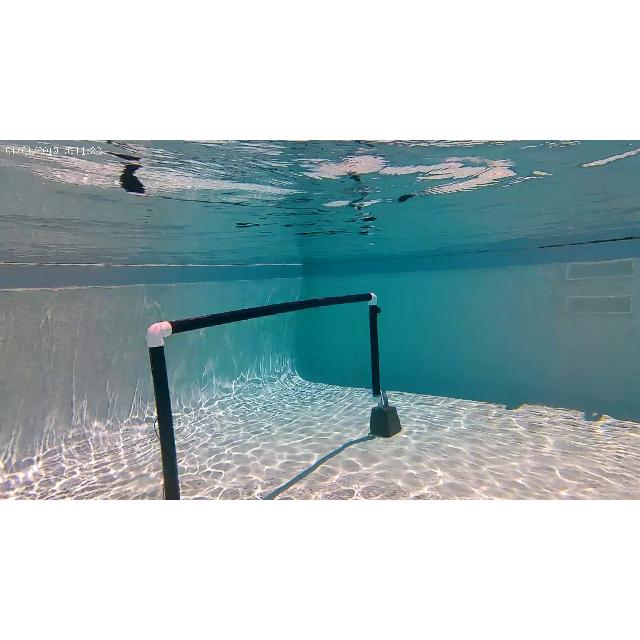prequal gate: (147, 294, 379, 500)
prequal gate leg l: (144, 320, 192, 500)
prequal gate leg r: (366, 292, 384, 406)
